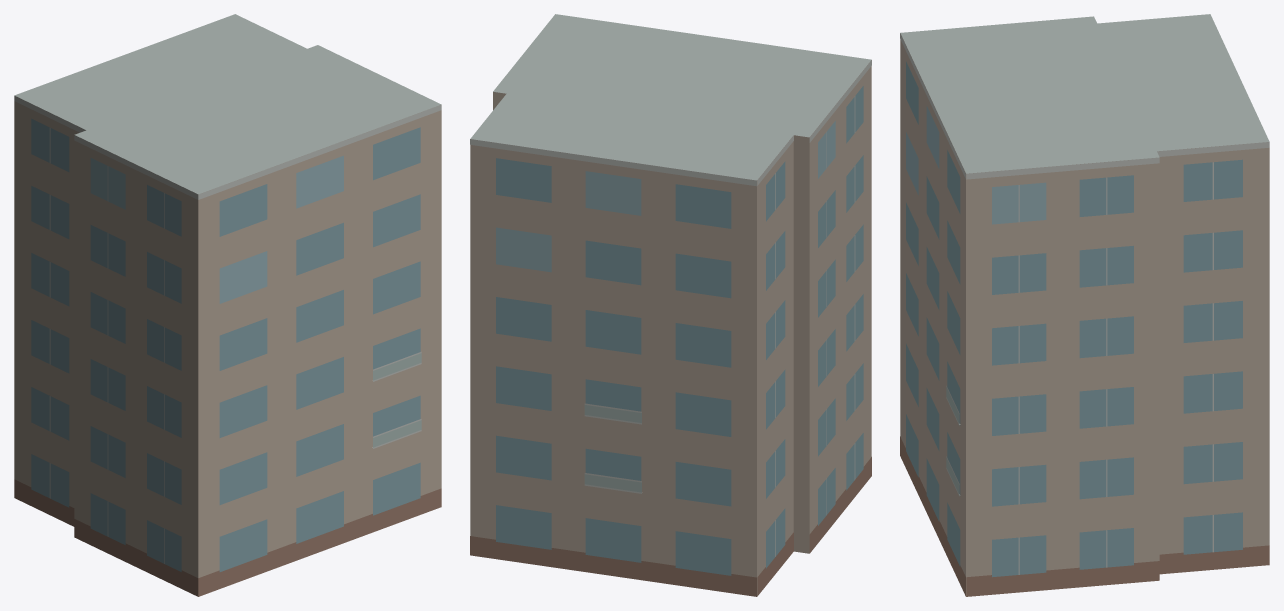
Rendered from survey-upis-33019562.glb.
3 renders of one model, left to right at view 1: azimuth 30°, elevation 25°; view 2: azimuth 150°, elevation 25°; view 3: azimuth 270°, elevation 25°, orthographic. The views are drawn at different scales.
Visible parts, largest first — view 1: survey-upis-33019562.tmp; view 2: survey-upis-33019562.tmp; view 3: survey-upis-33019562.tmp.
Boxes of the visible parts, x1,y1,x2,y2 form: survey-upis-33019562.tmp: (14, 14, 441, 596); survey-upis-33019562.tmp: (470, 14, 871, 596); survey-upis-33019562.tmp: (900, 14, 1269, 596).
Bounding box in the file's own units: 14.21 × 17.55 × 13.89.
